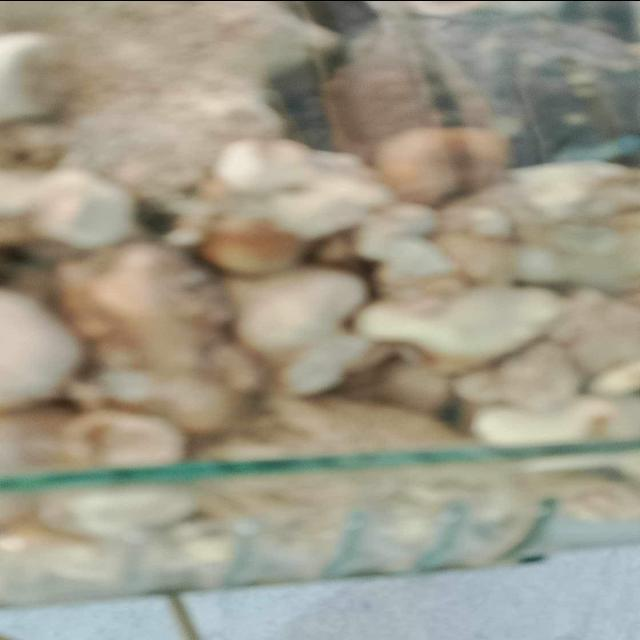General: (3, 4, 636, 612), (2, 437, 636, 612)
Sharps: (1, 436, 636, 495)
